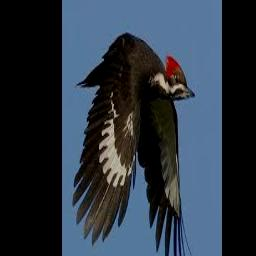Woodpecker: (73, 32, 195, 256)
